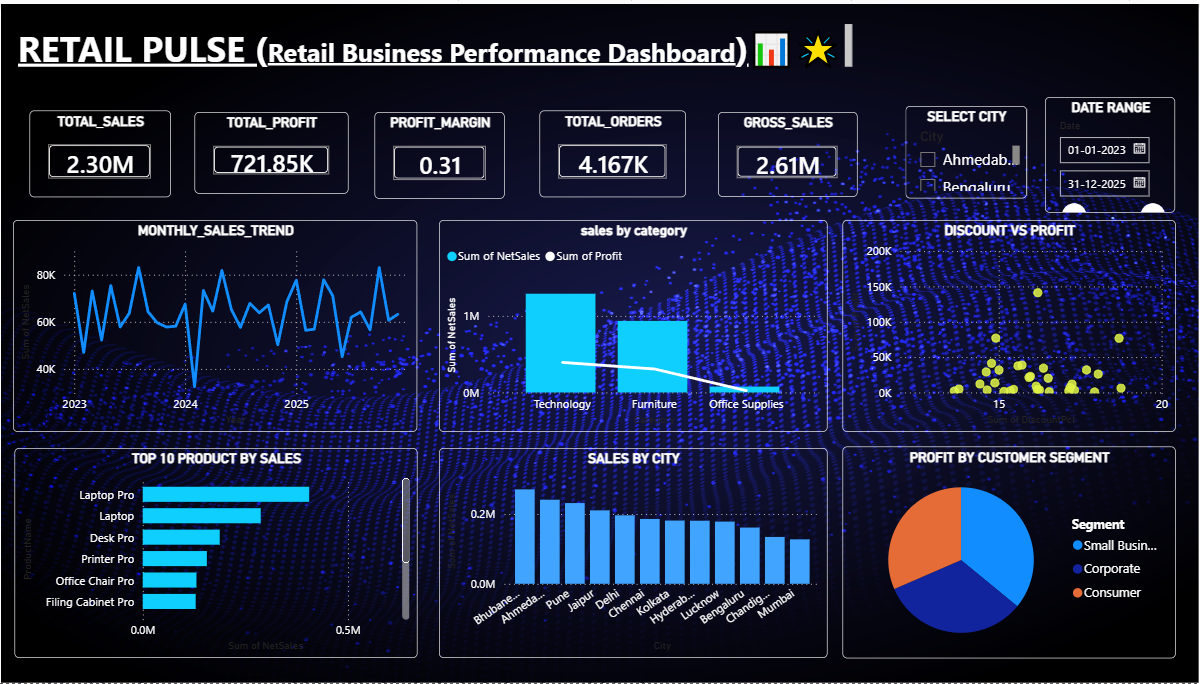

The page's visual inventory and layout, read from the dashboard file:
{"tool":"powerbi","page":{"name":"Page 1","canvas":[1280,720],"ordinal":0},"visuals":[{"type":"image","box":[9.4,0,1269.9,720],"z":0},{"type":"cardVisual","title":"TOTAL_SALES","fields":{"Data":["fact_sales (2).TOTAL_SALES"]},"box":[40.3,113.3,149.8,92.2],"z":1000},{"type":"cardVisual","title":"GROSS_SALES","fields":{"Data":["Sum(fact_sales (2).GrossSales)"]},"box":[770.3,115.3,147.9,90.3],"z":2000},{"type":"cardVisual","title":"TOTAL_ORDERS","fields":{"Data":["Count(fact_sales (2).OrderID)"]},"box":[580.1,113.3,155.6,92.2],"z":3000},{"type":"cardVisual","title":"TOTAL_PROFIT","fields":{"Data":["Sum(fact_sales (2).Profit)"]},"box":[215.1,115.3,163.3,86.4],"z":4000},{"type":"cardVisual","title":"PROFIT_MARGIN","fields":{"Data":["fact_sales (2).PROFIT_MARGIN"]},"box":[405.3,115.3,138.3,92.2],"z":5000},{"type":"lineChart","title":"MONTHLY_SALES_TREND","fields":{"Y":["Sum(fact_sales (2).NetSales)"],"Category":["dim_date.Date.Variation.Date Hierarchy.Year","dim_date.Date.Variation.Date Hierarchy.Month"]},"box":[22.7,228.7,429,224.9],"z":6000},{"type":"lineClusteredColumnComboChart","title":"sales by category","fields":{"Category":["dim_product.Category"],"Y":["Sum(fact_sales (2).NetSales)"],"Y2":["Sum(fact_sales (2).Profit)"]},"box":[474.3,228.7,412,224.9],"z":7000},{"type":"clusteredBarChart","title":"TOP 10 PRODUCT BY SALES","fields":{"Y":["Sum(fact_sales (2).NetSales)"],"Category":["dim_product.ProductName"]},"box":[24.6,470.6,427.1,223],"z":8000},{"type":"columnChart","title":"SALES BY CITY","fields":{"Y":["Sum(fact_sales (2).NetSales)"],"Category":["dim_customer.City"]},"box":[474.3,470.6,412,223],"z":9000},{"type":"scatterChart","title":"DISCOUNT VS PROFIT ","fields":{"X":["Sum(fact_sales (2).DiscountPct)"],"Y":["Sum(fact_sales (2).Profit)"],"Category":["dim_product.ProductName"]},"box":[901.4,228.7,353.4,224.9],"z":10000},{"type":"pieChart","title":"PROFIT BY CUSTOMER SEGMENT","fields":{"Y":["Sum(fact_sales (2).Profit)"],"Category":["dim_customer.Segment"]},"box":[901.4,468.7,353.4,224.9],"z":11000},{"type":"slicer","title":"DATE RANGE ","fields":{"Values":["dim_date.Date"]},"box":[1116.1,98,138.3,122.9],"z":12001},{"type":"slicer","title":"SELECT CITY","fields":{"Values":["dim_customer.City"]},"box":[968.2,107.6,128.7,98],"z":12002},{"type":"textbox","box":[23.1,15.4,895.2,57.6],"z":12003}]}

Visuals, with their boxes in screenshot pixels (x1, y1, x2, y2), scaled from the page's 1280x720 canvas onto the 1200x684 screenshot:
image: crop(9, 0, 1199, 683)
"TOTAL_SALES" cardVisual: crop(38, 108, 178, 195)
"GROSS_SALES" cardVisual: crop(722, 110, 861, 195)
"TOTAL_ORDERS" cardVisual: crop(544, 108, 690, 195)
"TOTAL_PROFIT" cardVisual: crop(202, 110, 355, 192)
"PROFIT_MARGIN" cardVisual: crop(380, 110, 510, 197)
"MONTHLY_SALES_TREND" lineChart: crop(21, 217, 423, 431)
"sales by category" lineClusteredColumnComboChart: crop(445, 217, 831, 431)
"TOP 10 PRODUCT BY SALES" clusteredBarChart: crop(23, 447, 423, 659)
"SALES BY CITY" columnChart: crop(445, 447, 831, 659)
"DISCOUNT VS PROFIT " scatterChart: crop(845, 217, 1176, 431)
"PROFIT BY CUSTOMER SEGMENT" pieChart: crop(845, 445, 1176, 659)
"DATE RANGE " slicer: crop(1046, 93, 1176, 210)
"SELECT CITY" slicer: crop(908, 102, 1028, 195)
textbox: crop(22, 15, 861, 69)
